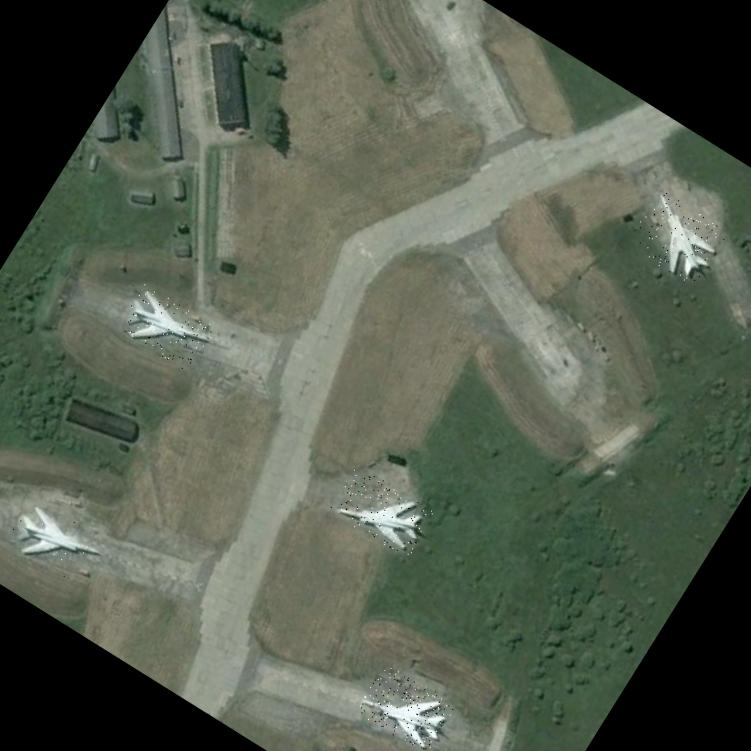A12: (624, 188, 729, 288), (328, 464, 436, 560), (1, 494, 104, 587), (353, 661, 454, 751), (116, 282, 216, 372)
